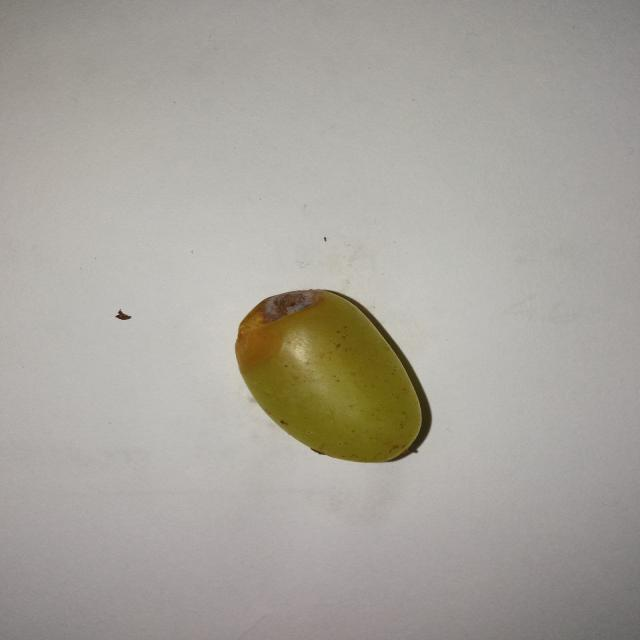rotten_grape: (231, 285, 425, 463)
